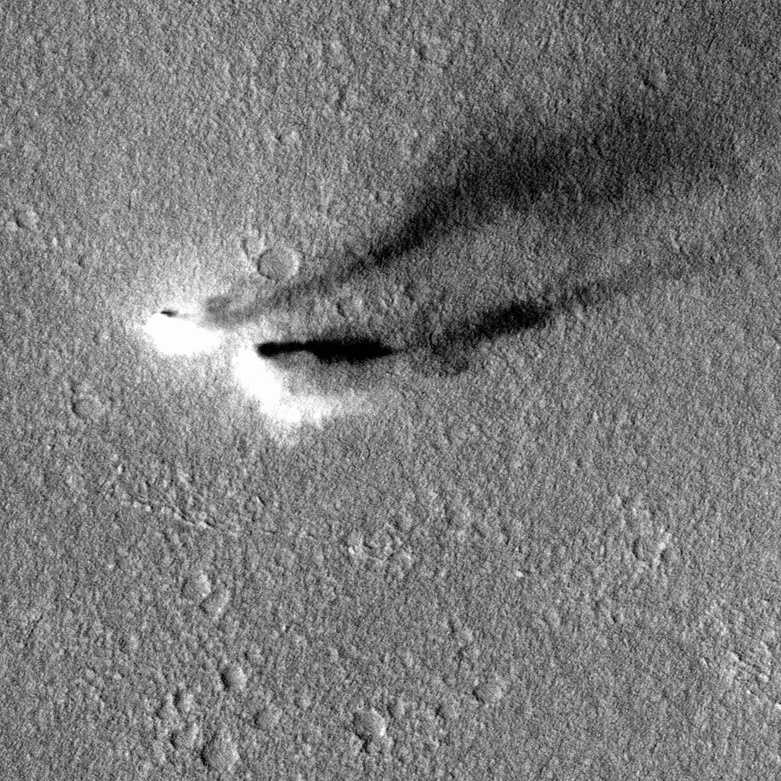dust_devil: (134, 113, 730, 360), (227, 279, 608, 434)
